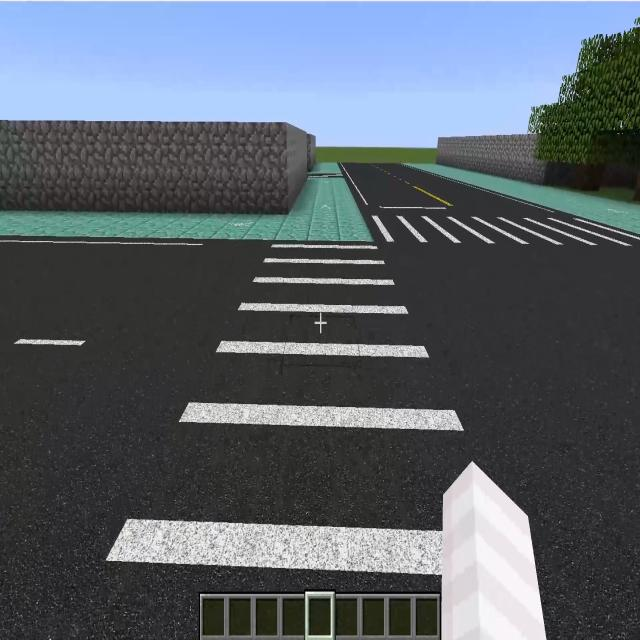crosswalk: (110, 238, 472, 569), (364, 215, 640, 246)
road: (1, 238, 266, 639), (380, 242, 640, 637), (340, 161, 554, 213)
sidewalk: (0, 178, 372, 242), (407, 164, 640, 234), (310, 160, 340, 174)
